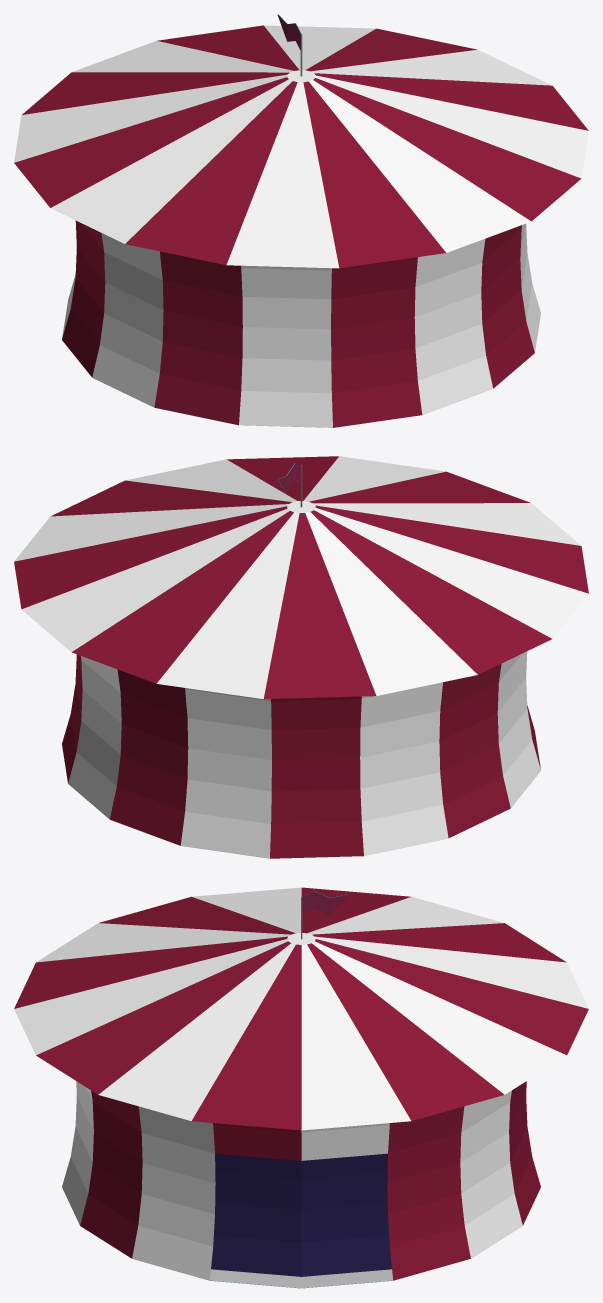
The model's file is Tent06.fbx.
3 renders of one model, top to bottom at view 1: azimuth 30°, elevation 25°; view 2: azimuth 150°, elevation 25°; view 3: azimuth 270°, elevation 25°, orthographic.
Parts seen in each view (by area): view 1: Tent06; view 2: Tent06; view 3: Tent06.
Part boxes in pixels (x1=…): Tent06: x1=14, y1=14, x2=588, y2=427; Tent06: x1=14, y1=456, x2=588, y2=858; Tent06: x1=14, y1=887, x2=588, y2=1288.
Size of the model in its own units: 874 by 497 by 874.
